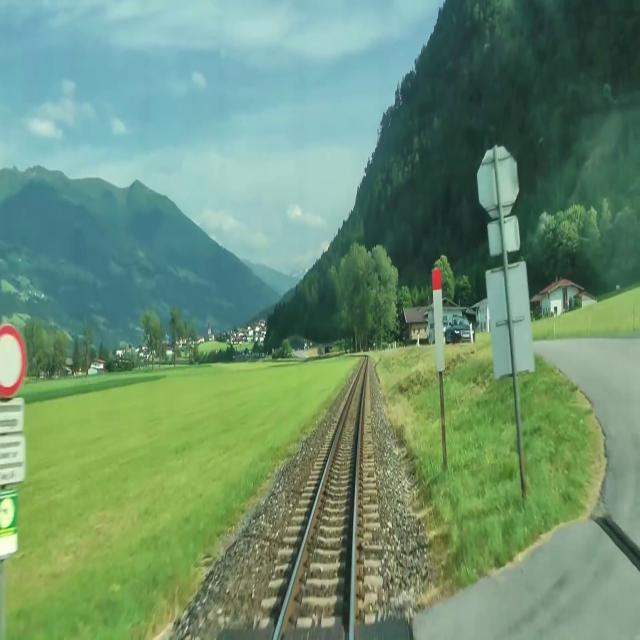rail-track: (278, 367, 364, 639)
